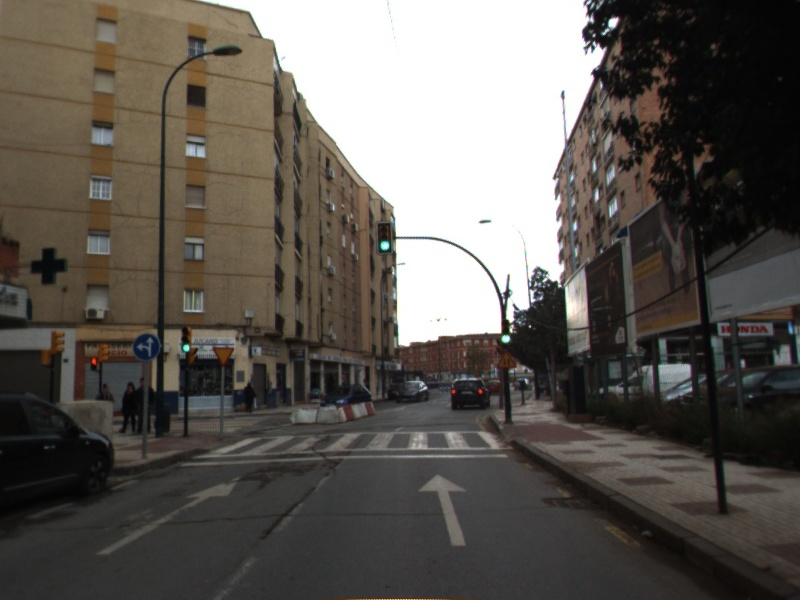STRAIGHT: (91, 469, 248, 560), (414, 470, 472, 549)
